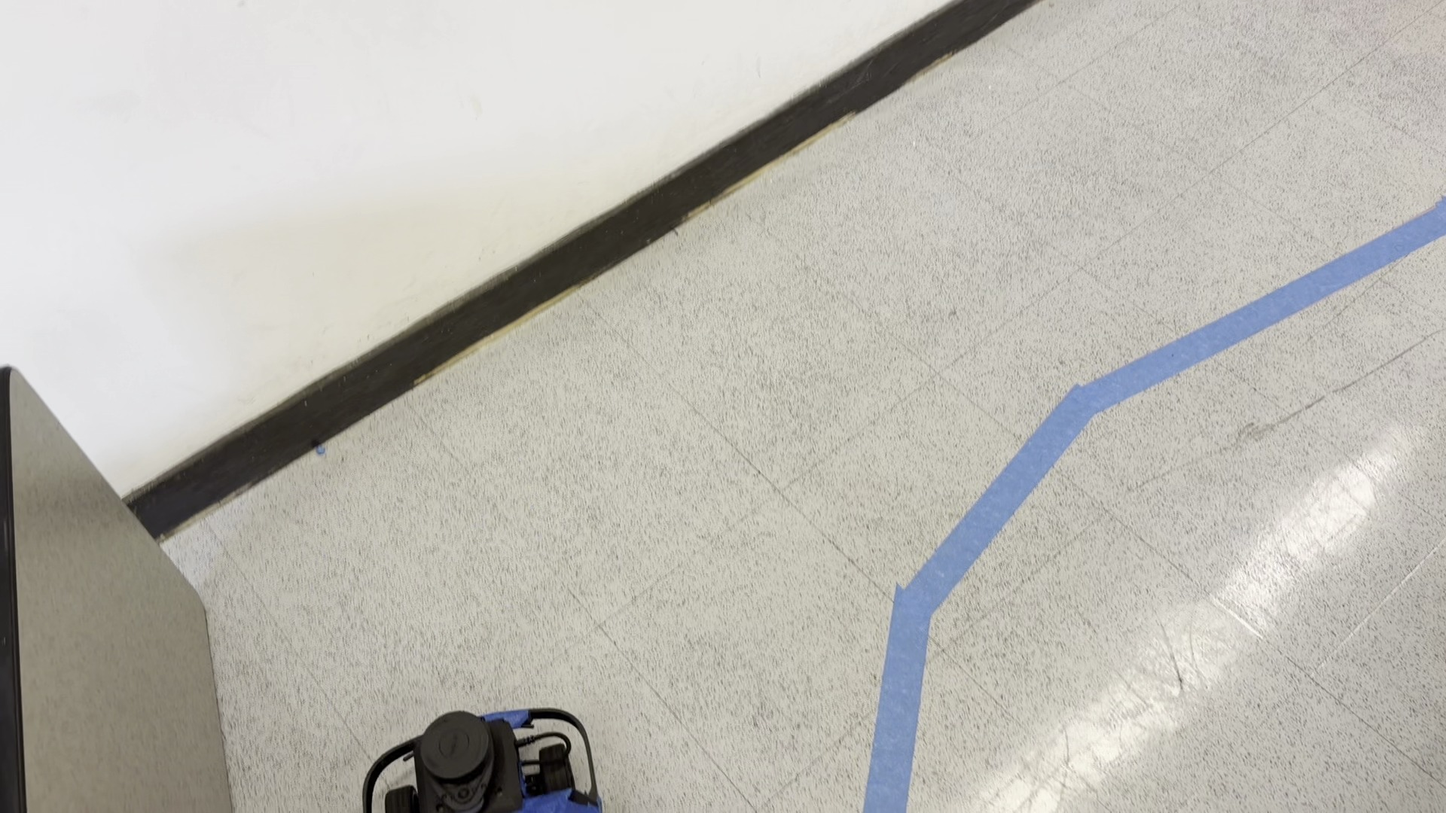racecar: (369, 705, 603, 813)
